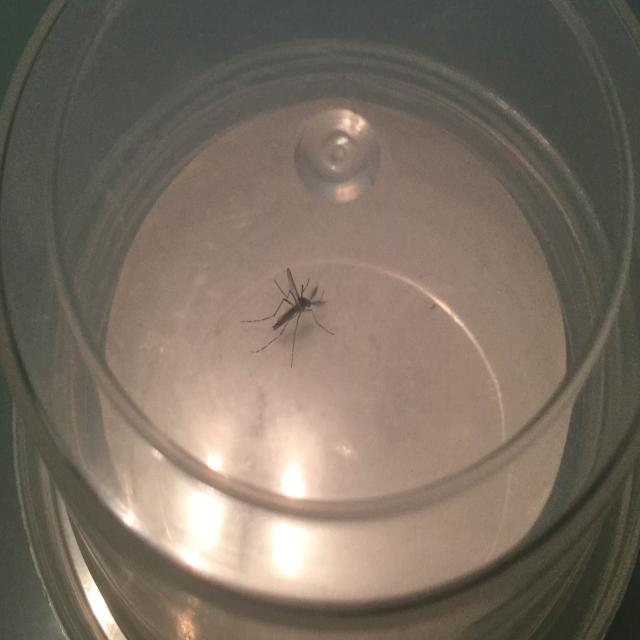albopictus: (240, 259, 337, 369)
